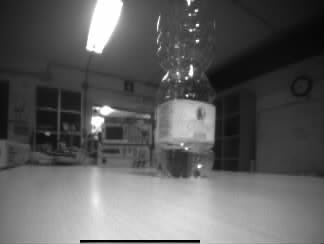Bottle: (152, 1, 217, 179)
